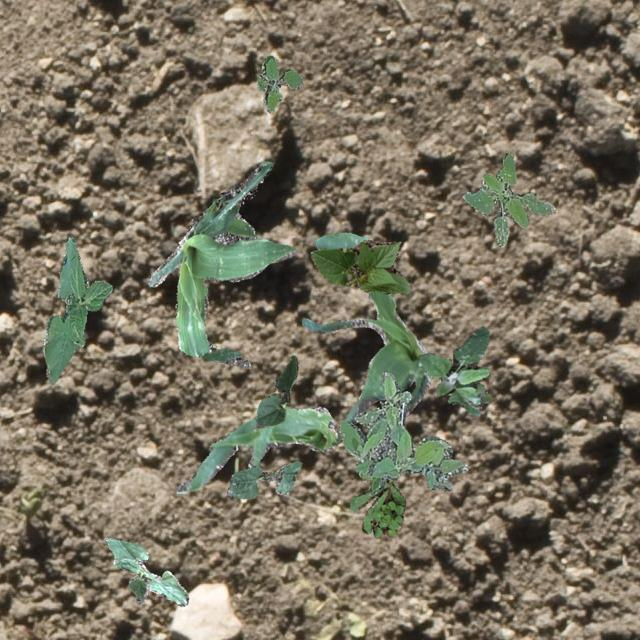crop: (148, 160, 294, 368), (300, 232, 430, 438), (174, 406, 338, 494), (42, 235, 112, 384), (104, 537, 188, 605), (310, 238, 410, 292), (254, 354, 296, 424), (226, 460, 300, 498)
weed: (338, 370, 467, 492), (462, 152, 556, 246), (416, 326, 490, 414), (348, 474, 404, 536), (256, 55, 302, 112)
